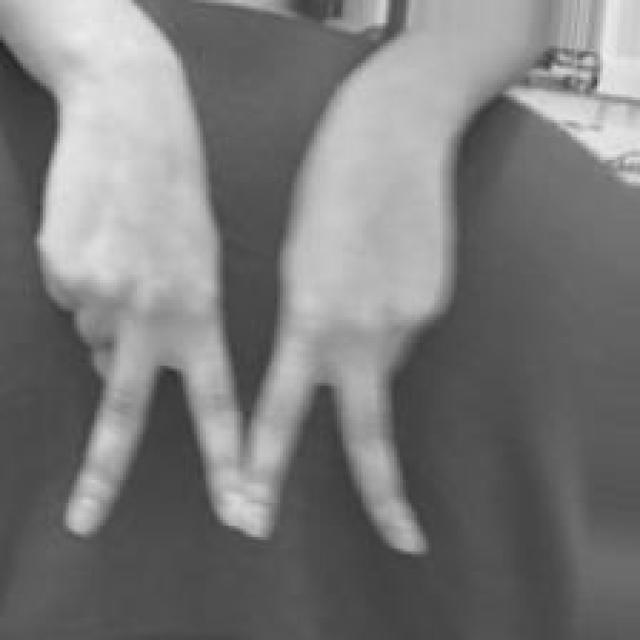M: (33, 78, 540, 566)
